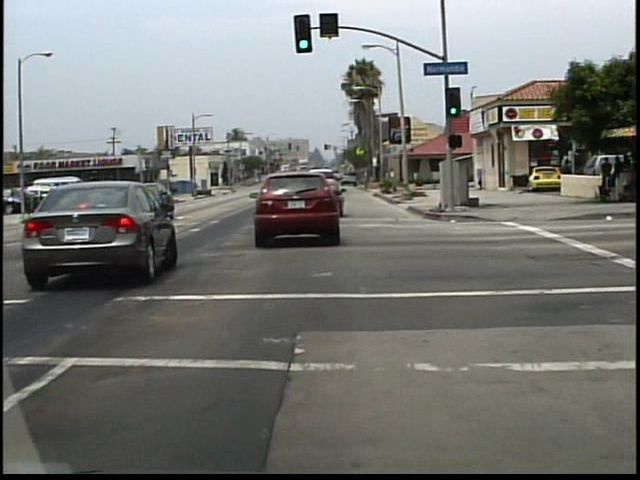person: (557, 157, 574, 197)
